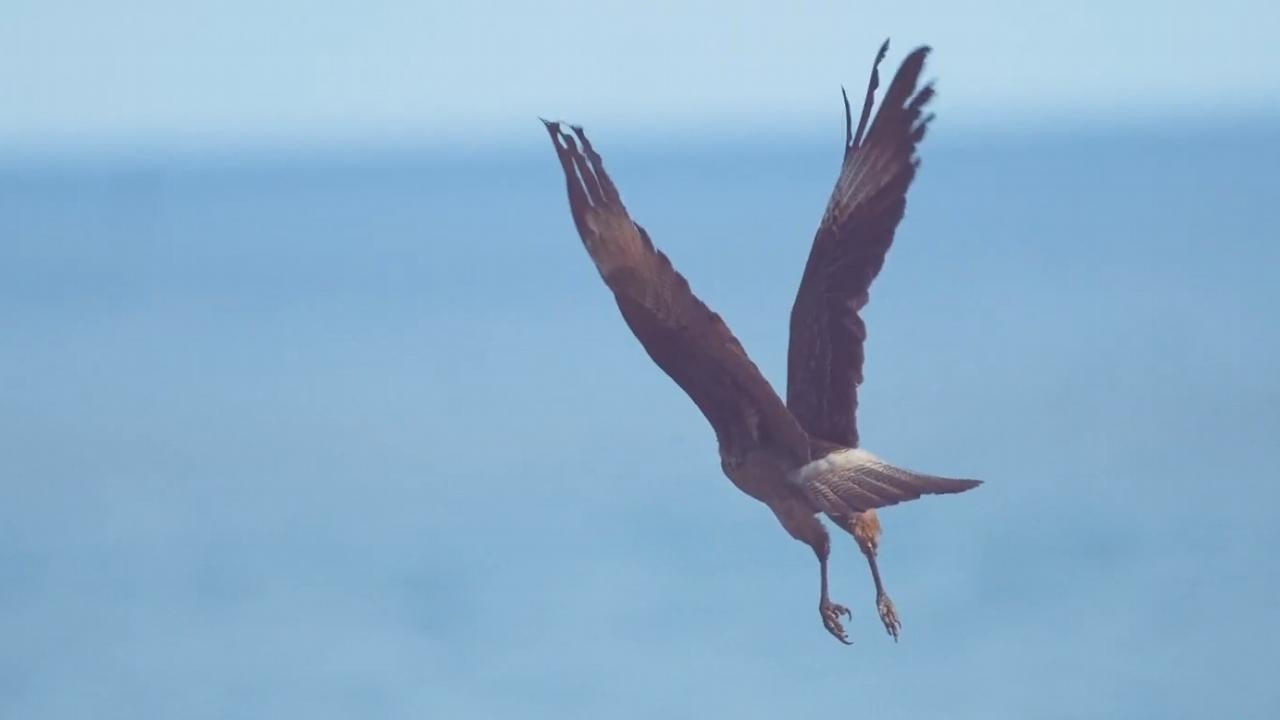Bird: (526, 30, 998, 654)
